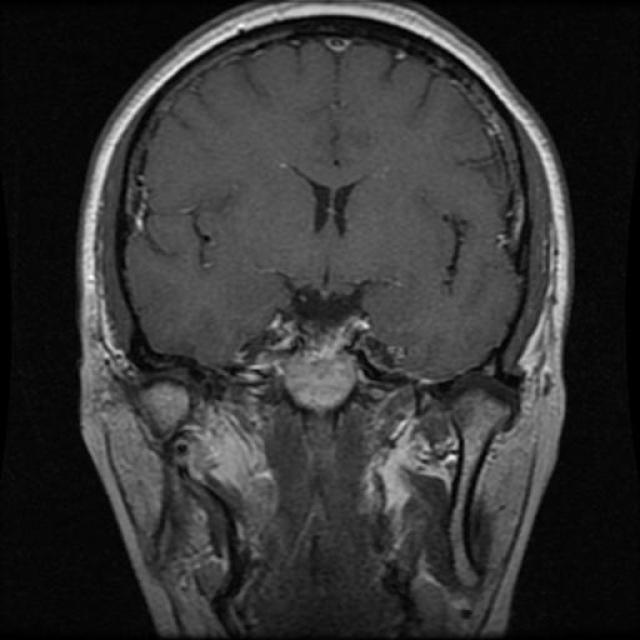pituitary: (260, 311, 385, 419)
